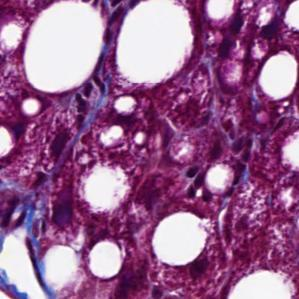inflammation: (227, 122, 268, 169), (45, 188, 86, 232), (176, 161, 214, 208)
